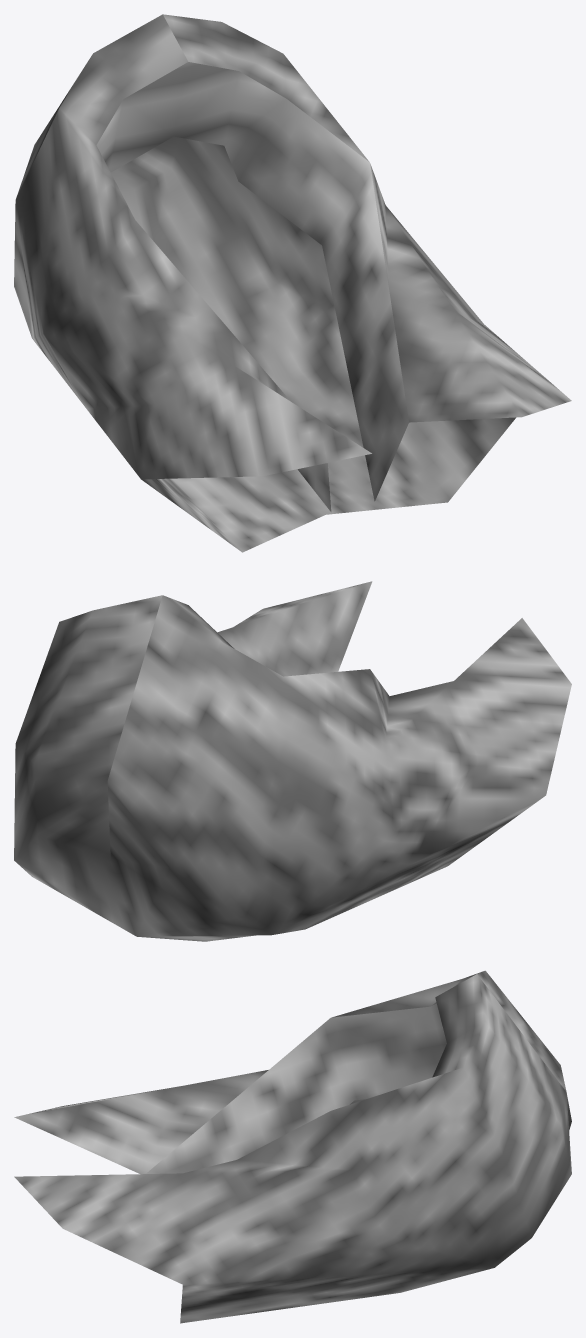
The model's file is Wig_F_Hair_Long.fbx.
3 renders of one model, top to bottom at view 1: azimuth 30°, elevation 25°; view 2: azimuth 150°, elevation 25°; view 3: azimuth 270°, elevation 25°, orthographic. The views are drawn at different scales.
Visible parts, largest first — view 1: BoxOfJars003; view 2: BoxOfJars003; view 3: BoxOfJars003.
Boxes of the visible parts, box(x1,y1,x2,y2) form: BoxOfJars003: box(14, 14, 571, 552); BoxOfJars003: box(14, 581, 571, 941); BoxOfJars003: box(14, 970, 571, 1323).
Size of the model in its own units: 16.4 by 14.75 by 24.06.
